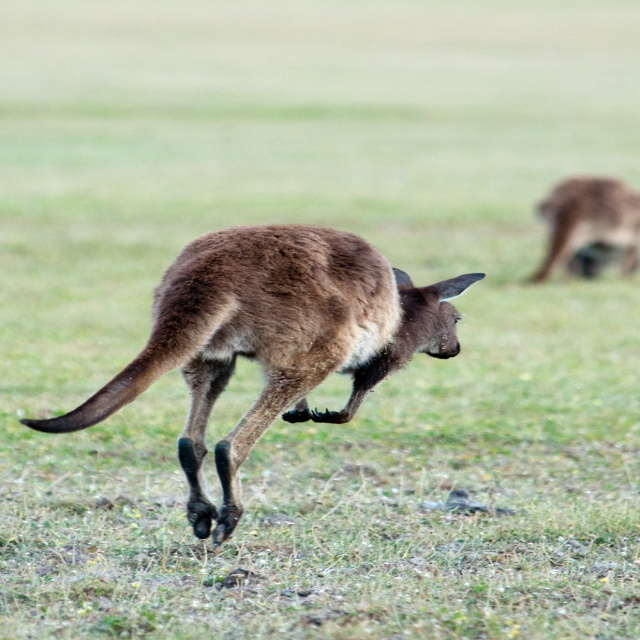Kangaroo: (15, 222, 488, 548), (525, 171, 639, 294)
